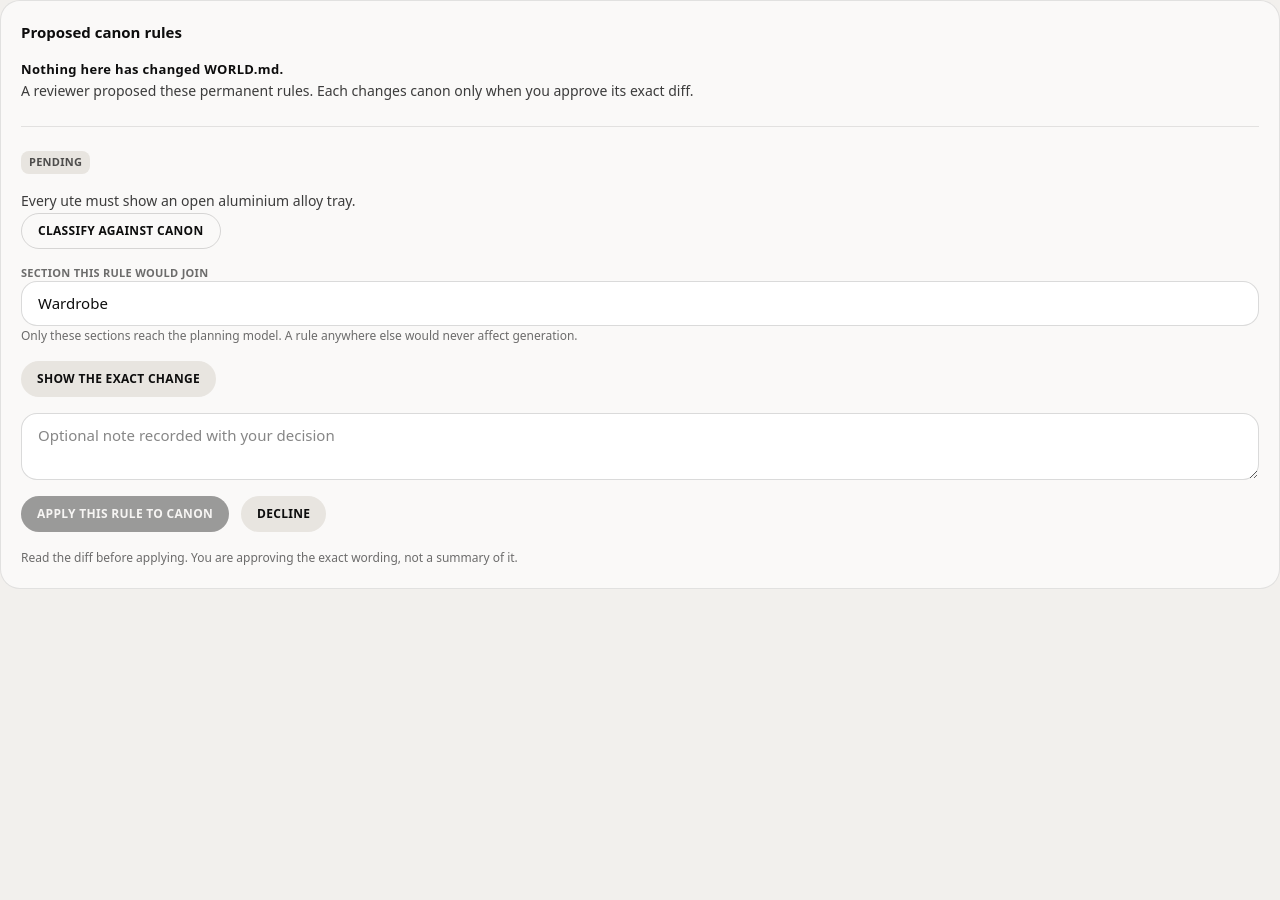
Test: CanonProposals › surfaces a refusal
The image size is (1280, 900).
Click the button "Decline": click(284, 514) x1=241 y1=496 x2=326 y2=532
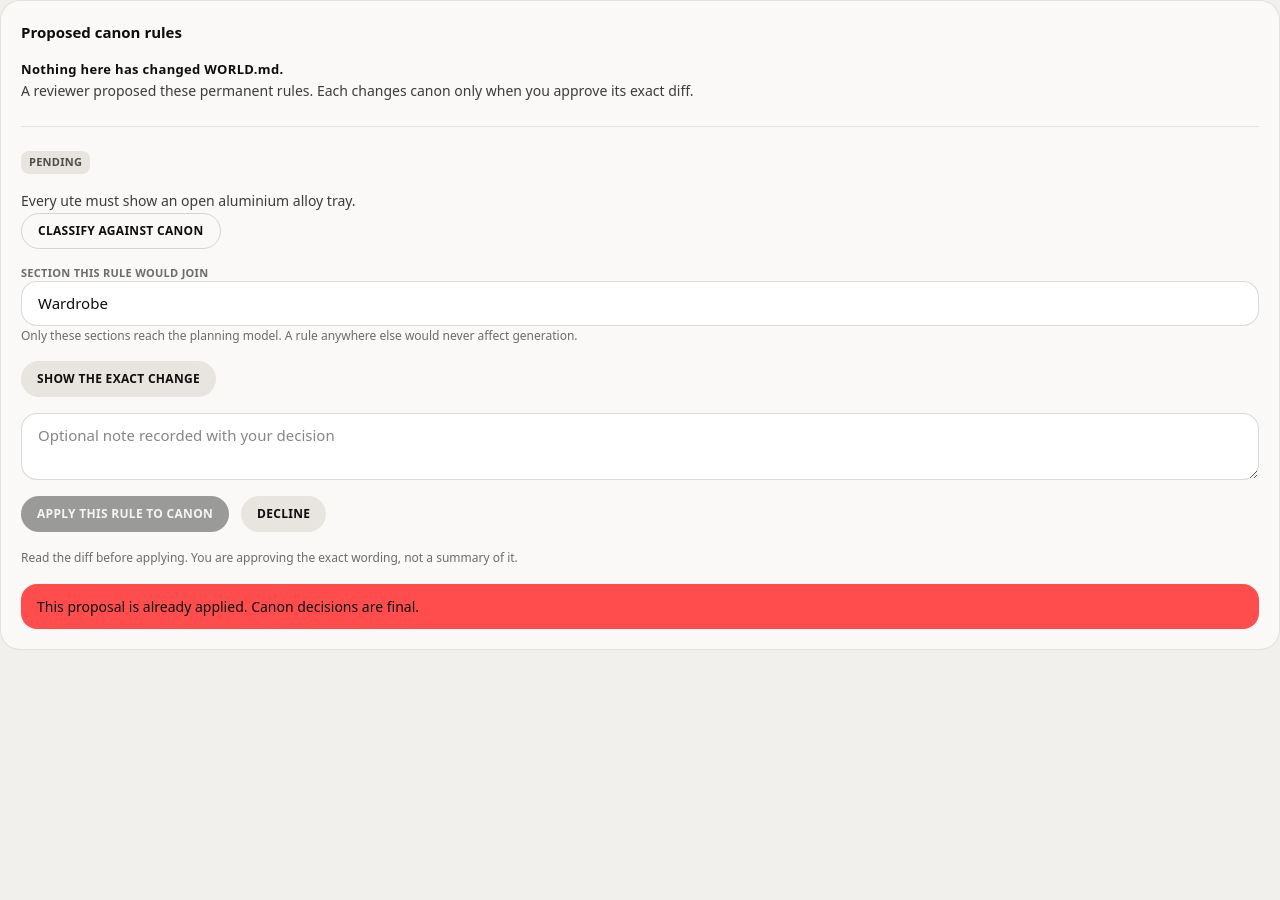
Expected: the text "This proposal is already applied. Canon decisions are final." is shown, x1=21 y1=584 x2=1259 y2=628
